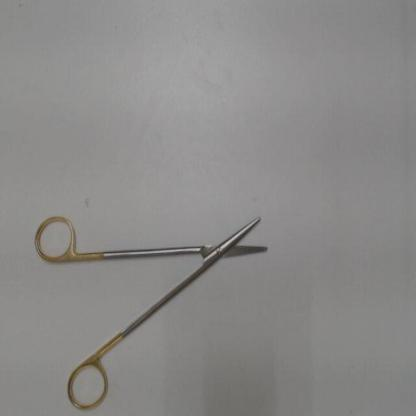7 Metzenbaum Scissors: (30, 208, 270, 414)
